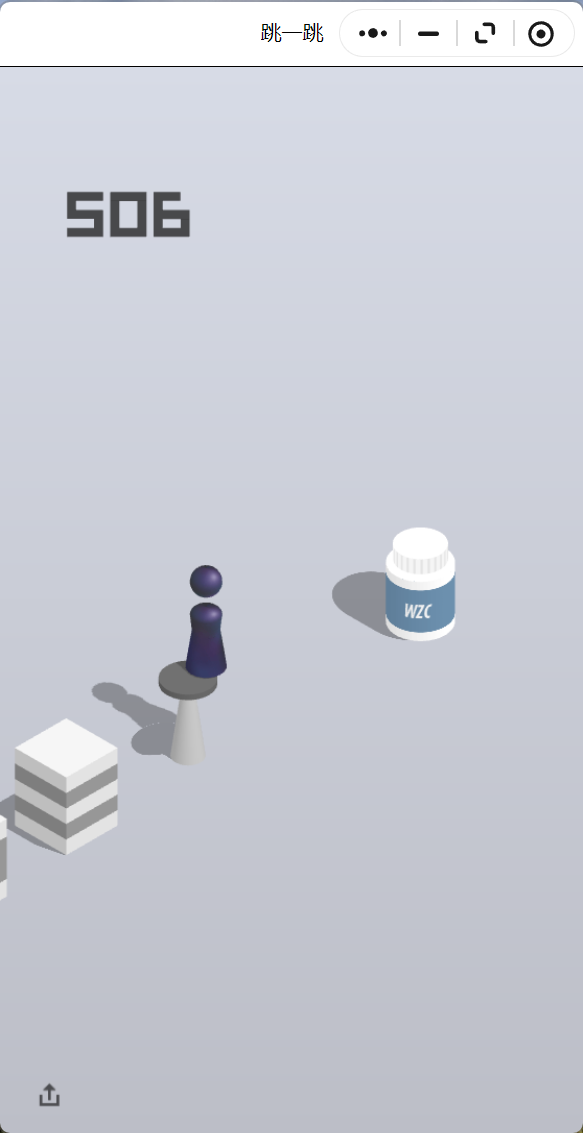piece: (190, 565, 222, 674)
target: (392, 527, 448, 559)
